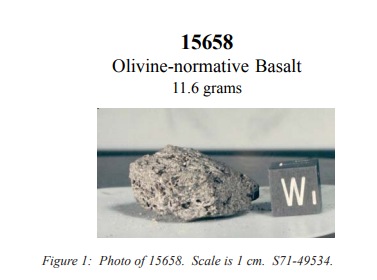Basalt: (128, 137, 258, 223)
